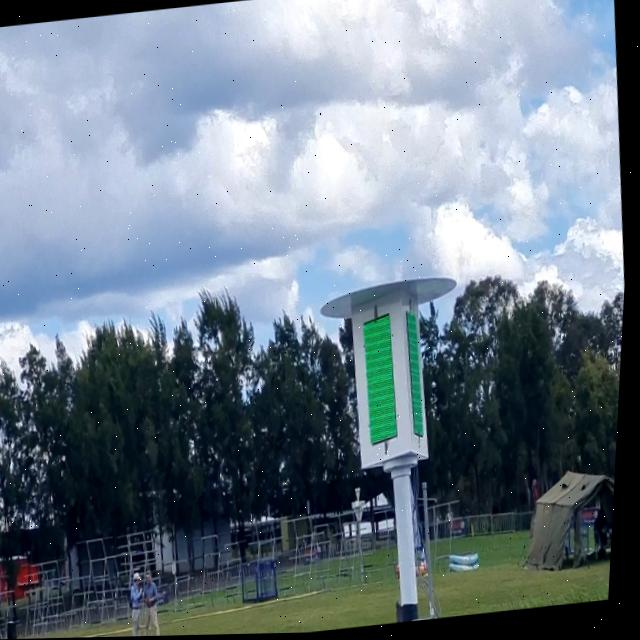led: (352, 307, 413, 453), (397, 300, 434, 449)
